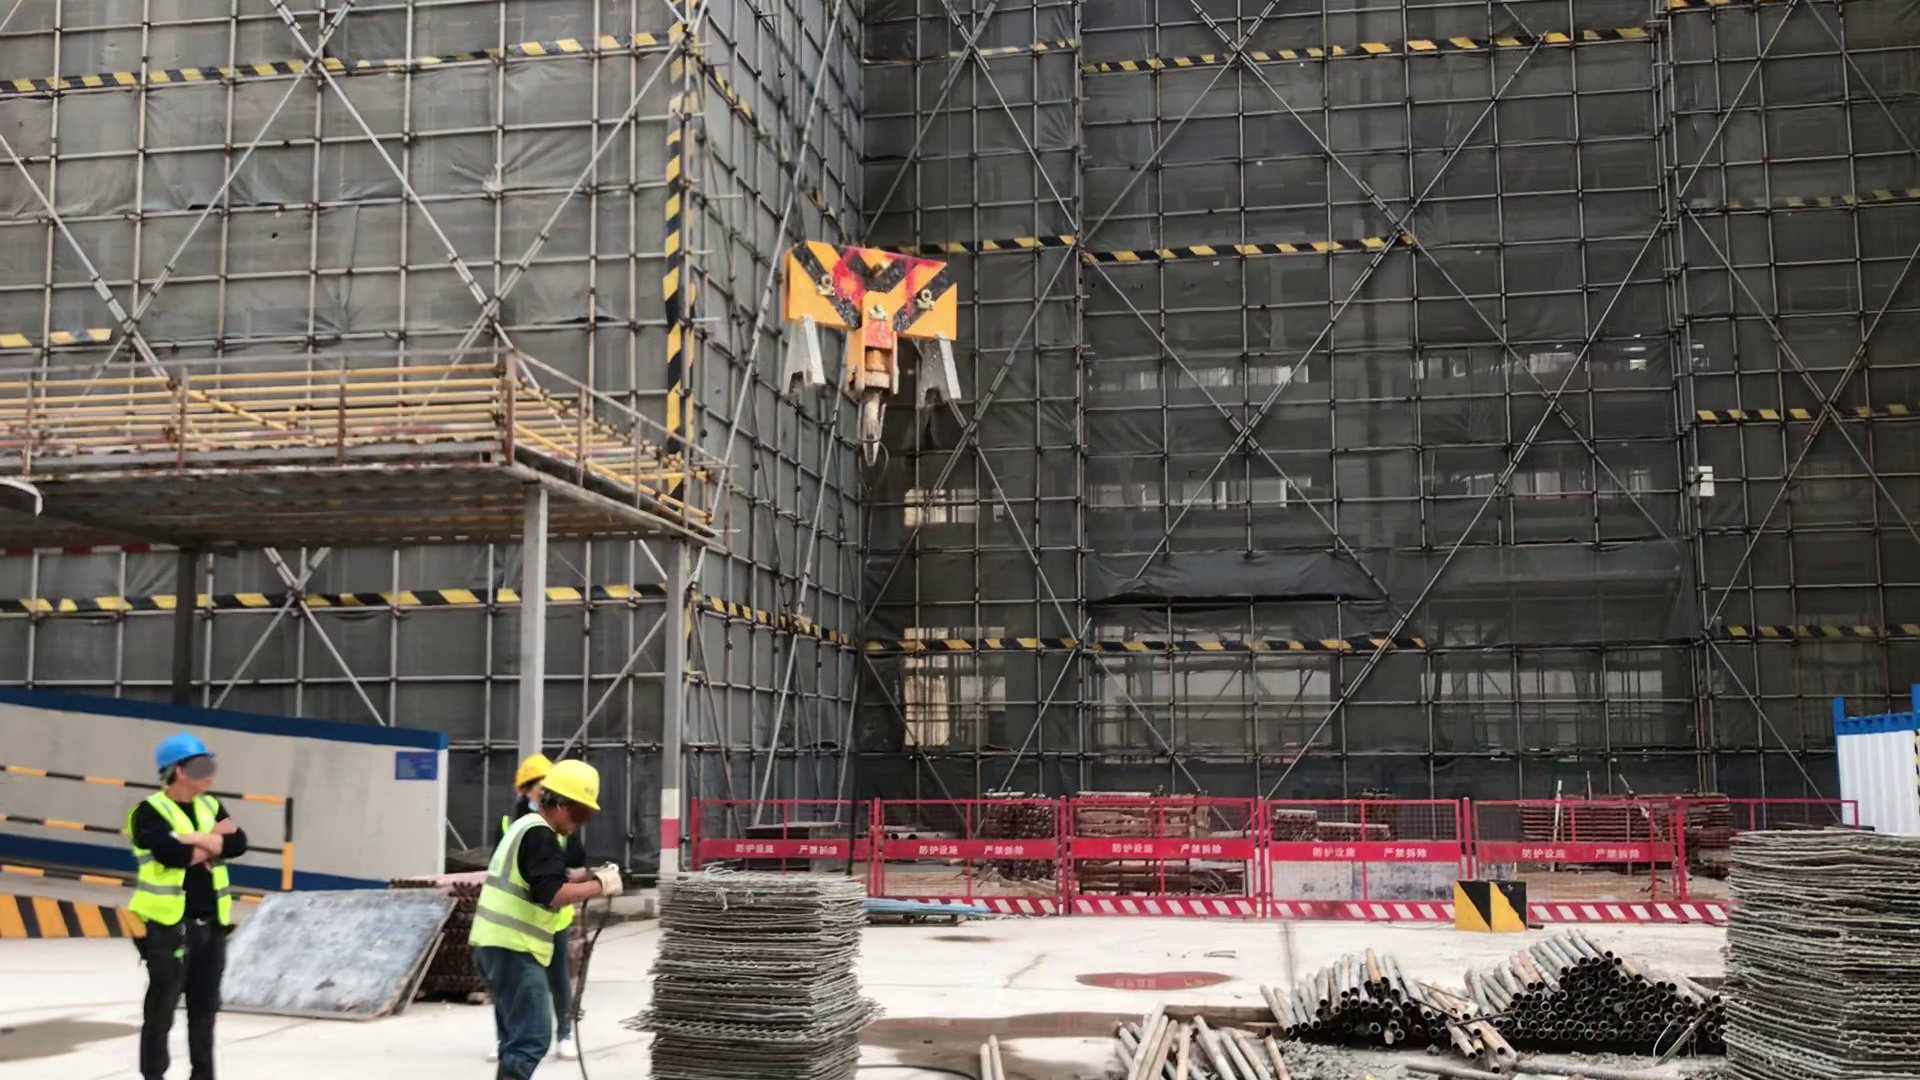fence: (984, 793, 1455, 927), (1517, 794, 1718, 926), (19, 757, 118, 908), (678, 789, 850, 865), (860, 789, 980, 894)
helmet: (541, 760, 604, 816), (155, 731, 214, 776), (514, 756, 547, 787)
hook: (771, 237, 963, 469)
person: (466, 760, 626, 1080), (122, 731, 251, 1080)
scaffold: (1480, 927, 1719, 1061), (1256, 953, 1444, 1046)
vest: (129, 790, 240, 934), (473, 815, 571, 974)
